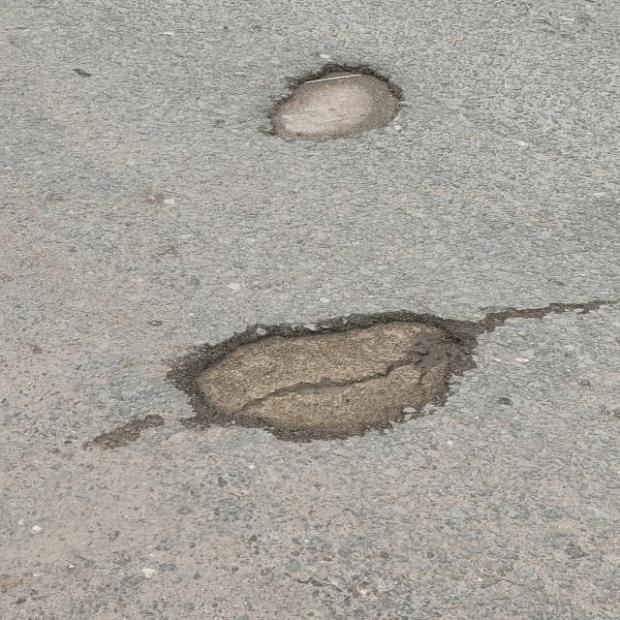lubang: (172, 301, 602, 438), (271, 66, 400, 140)
